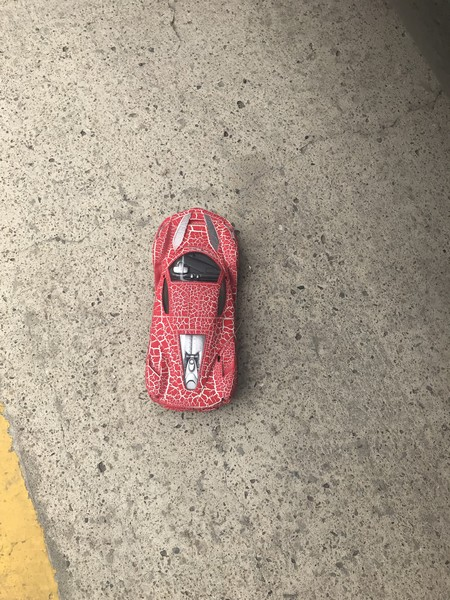RC: (143, 207, 243, 415)
